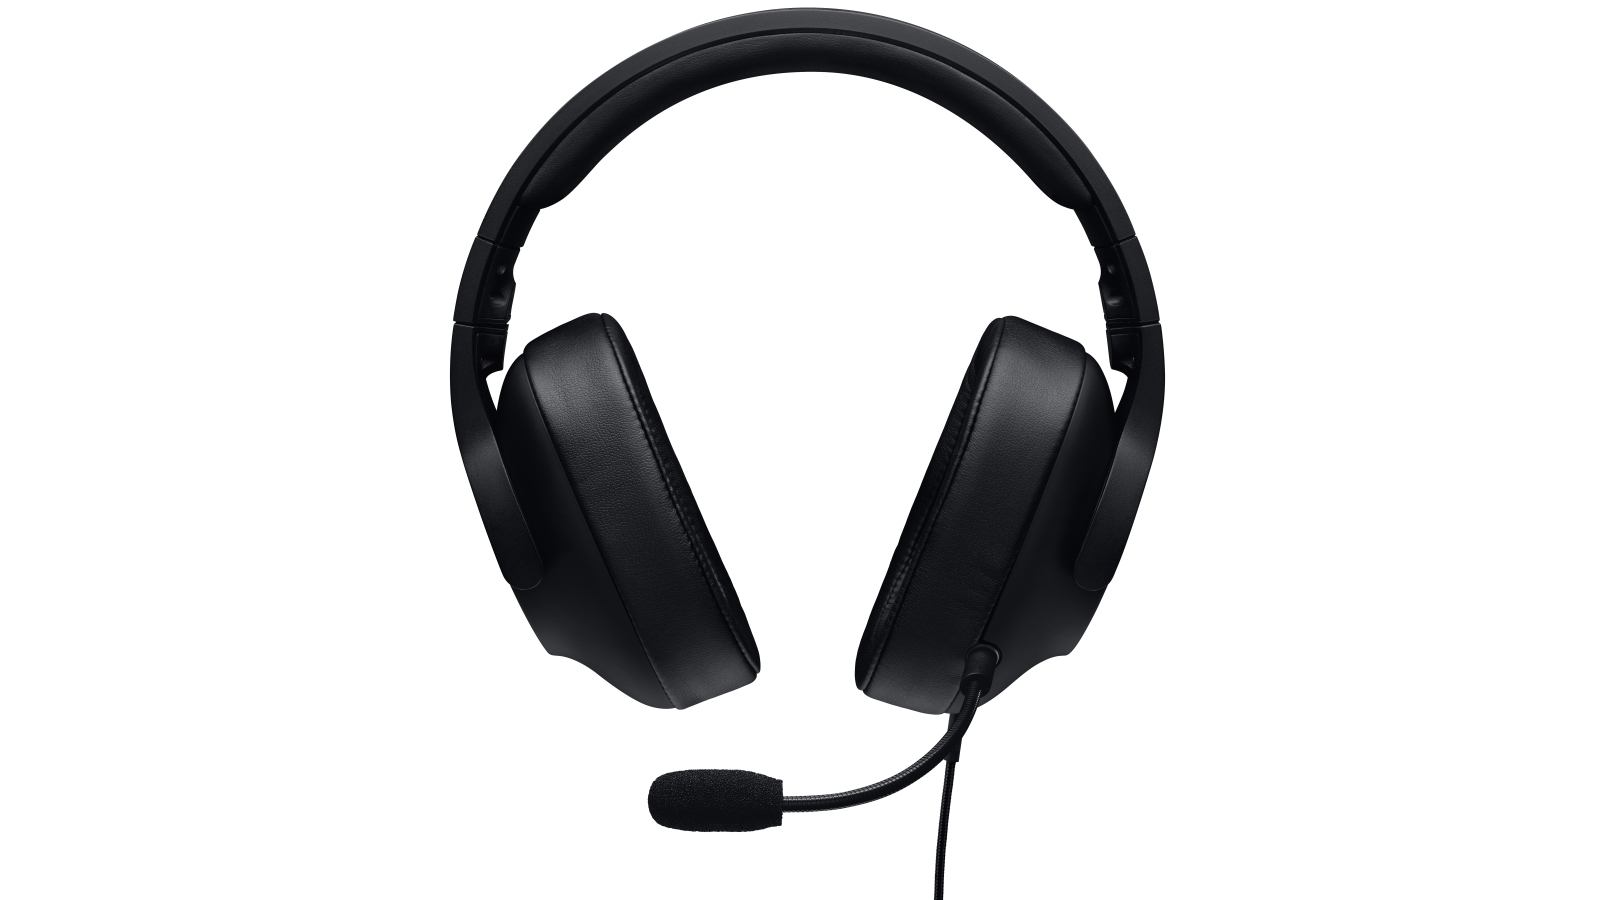Headset: (388, 5, 1262, 864)
